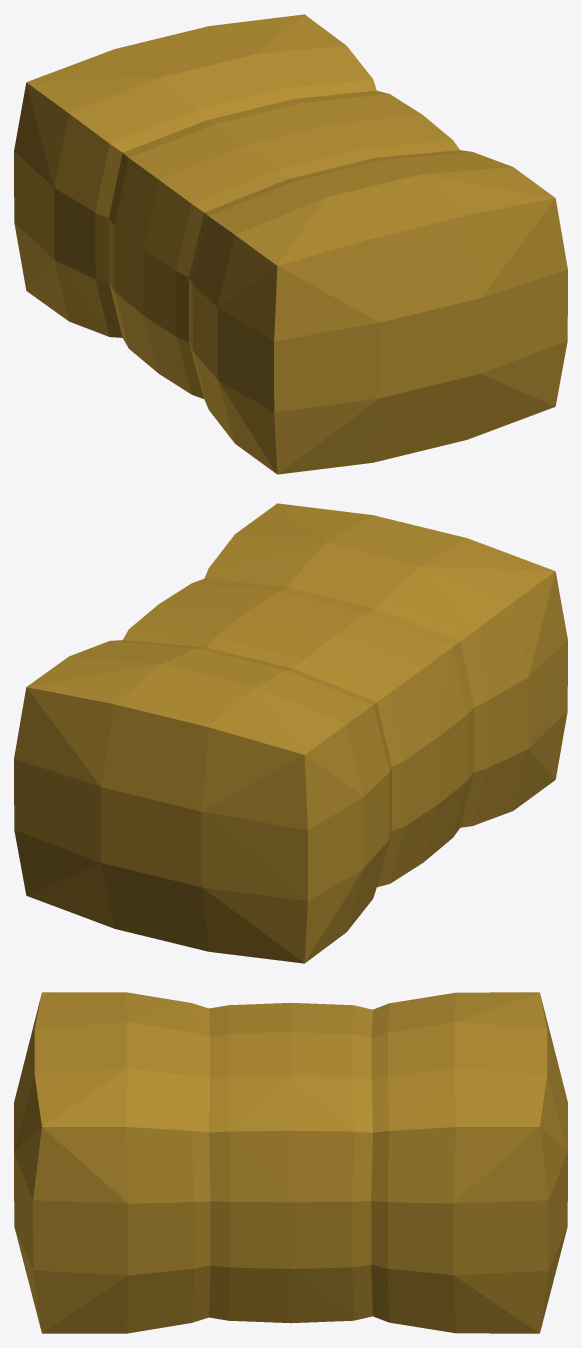
File: straw.fbx
3 views of the same model, one above another, from view 1: azimuth 30°, elevation 25°; view 2: azimuth 150°, elevation 25°; view 3: azimuth 270°, elevation 25° (orthographic).
Parts seen in each view (by area): view 1: straw Bale.001; view 2: straw Bale.001; view 3: straw Bale.001.
Boxes of the visible parts, left/top/right/bottom form: straw Bale.001: left=14, top=14, right=567, bottom=474; straw Bale.001: left=14, top=503, right=567, bottom=963; straw Bale.001: left=14, top=992, right=567, bottom=1333.
Size of the model in its own units: 91.88 by 67.02 by 143.
